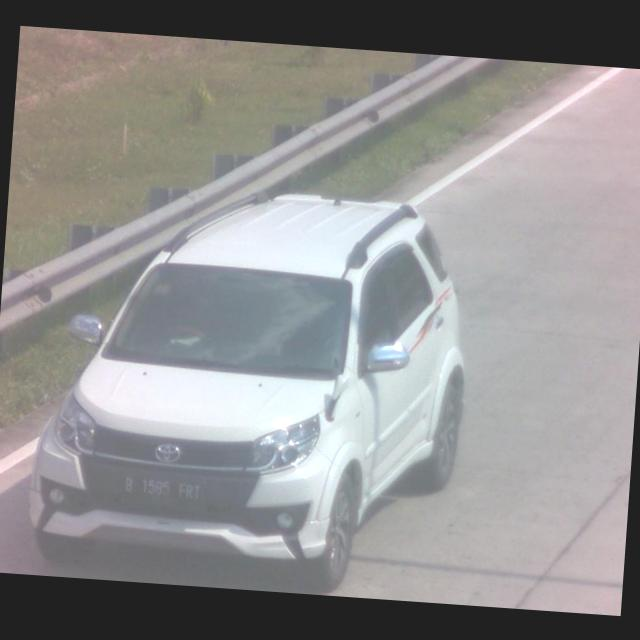plate: (119, 473, 205, 507)
